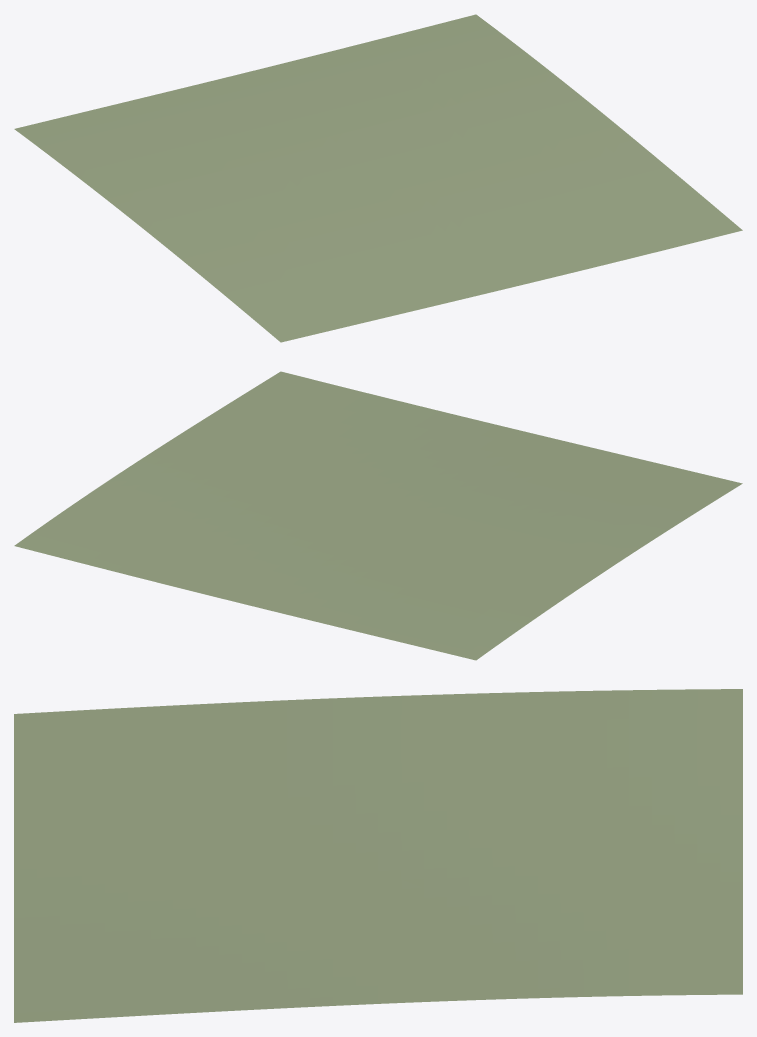
File: desert-6-17.glb
3 renders of one model, top to bottom at view 1: azimuth 30°, elevation 25°; view 2: azimuth 150°, elevation 25°; view 3: azimuth 270°, elevation 25°, orthographic. The views are drawn at different scales.
Parts seen in each view (by area): view 1: desert-6-17; view 2: desert-6-17; view 3: desert-6-17.
Part boxes in pixels (box(x1,y1,x2,y2)): desert-6-17: box(14, 14, 742, 342); desert-6-17: box(14, 371, 742, 660); desert-6-17: box(14, 689, 742, 1022).
Size of the model in its own units: 512 by 22.78 by 512.
